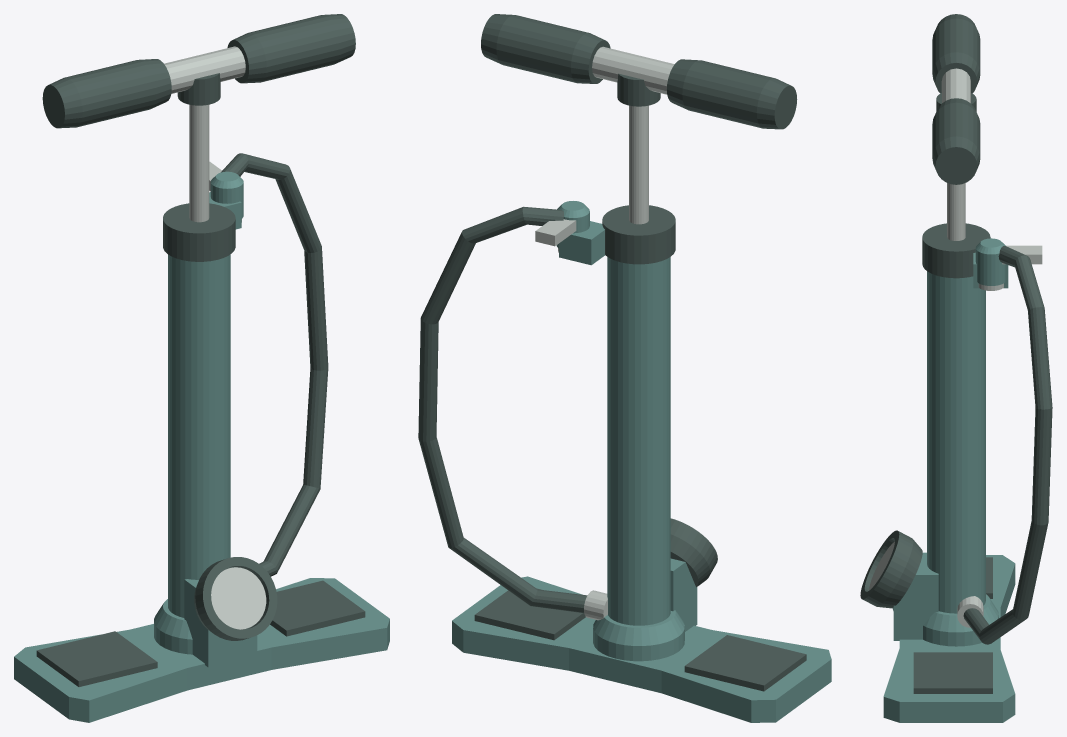
3 views of the same model, side by side, from view 1: azimuth 30°, elevation 25°; view 2: azimuth 150°, elevation 25°; view 3: azimuth 270°, elevation 25° (orthographic). The views are drawn at different scales.
Parts seen in each view (by area): view 1: WholeTallBoredPumpBarrel, WholeDoubleWingGroundFoot, WholeContinuousReturnHose, WholeTHandlePalmGrip-1, WholeTHandlePalmGrip1, WholeFootGripPad-1, WholeUpperRodGland, WholeFootGripPad1, WholeBlankDialHousing, WholeUnmarkedDialFace, WholeFixedRaisedPlungerRod, WholeLowDialRoot (+4 smaller); view 2: WholeTallBoredPumpBarrel, WholeDoubleWingGroundFoot, WholeContinuousReturnHose, WholeTHandlePalmGrip-1, WholeTHandlePalmGrip1, WholeFootGripPad-1, WholeUpperRodGland, WholeLowerCylinderSocket, WholeFootGripPad1, WholeFixedRaisedPlungerRod, WholeFullTHandleShaft, WholeBlankDialHousing (+5 smaller); view 3: WholeTallBoredPumpBarrel, WholeContinuousReturnHose, WholeDoubleWingGroundFoot, WholeTHandlePalmGrip1, WholeFootGripPad1, WholeBlankDialHousing, WholeTHandlePalmGrip-1, WholeUpperRodGland, WholeLowDialRoot, WholeLowerCylinderSocket, WholeHeldChuckBody, WholeFixedRaisedPlungerRod (+4 smaller).
Part boxes in pixels (<box>): WholeTallBoredPumpBarrel: <box>168,254,230,617</box>; WholeDoubleWingGroundFoot: <box>14,578,389,722</box>; WholeContinuousReturnHose: <box>221,153,328,576</box>; WholeTHandlePalmGrip-1: <box>42,59,171,128</box>; WholeTHandlePalmGrip1: <box>227,14,355,83</box>; WholeFootGripPad-1: <box>36,631,157,686</box>; WholeUpperRodGland: <box>163,203,235,261</box>; WholeFootGripPad1: <box>270,580,365,636</box>; WholeBlankDialHousing: <box>194,557,277,640</box>; WholeUnmarkedDialFace: <box>211,567,266,629</box>; WholeFixedRaisedPlungerRod: <box>189,104,209,222</box>; WholeLowDialRoot: <box>184,579,257,667</box>; WholeTallBoredPumpBarrel: <box>607,257,670,625</box>; WholeDoubleWingGroundFoot: <box>452,576,831,722</box>; WholeContinuousReturnHose: <box>418,206,587,613</box>; WholeTHandlePalmGrip-1: <box>667,59,797,129</box>; WholeTHandlePalmGrip1: <box>481,14,610,83</box>; WholeFootGripPad-1: <box>684,635,806,691</box>; WholeUpperRodGland: <box>602,205,675,264</box>; WholeLowerCylinderSocket: <box>593,610,684,661</box>; WholeFootGripPad1: <box>474,588,585,640</box>; WholeFixedRaisedPlungerRod: <box>629,105,648,224</box>; WholeFullTHandleShaft: <box>592,46,674,94</box>; WholeBlankDialHousing: <box>670,518,717,587</box>; WholeTallBoredPumpBarrel: <box>927,271,985,613</box>; WholeContinuousReturnHose: <box>963,246,1052,644</box>; WholeDoubleWingGroundFoot: <box>883,555,1015,722</box>; WholeTHandlePalmGrip1: <box>932,98,980,184</box>; WholeFootGripPad1: <box>913,652,992,693</box>; WholeBlankDialHousing: <box>860,530,922,608</box>; WholeTHandlePalmGrip-1: <box>932,14,980,93</box>; WholeUpperRodGland: <box>922,223,990,278</box>; WholeLowDialRoot: <box>893,552,938,640</box>; WholeLowerCylinderSocket: <box>923,594,998,646</box>; WholeHeldChuckBody: <box>975,238,1005,285</box>; WholeFixedRaisedPlungerRod: <box>947,183,965,240</box>.
Bounding box in the file's own units: 0.465 × 0.814 × 0.2478.
